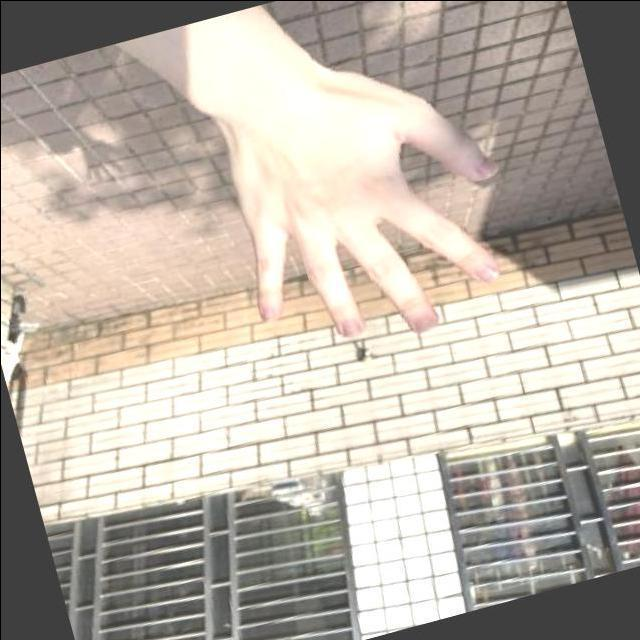hand: (163, 13, 550, 392)
